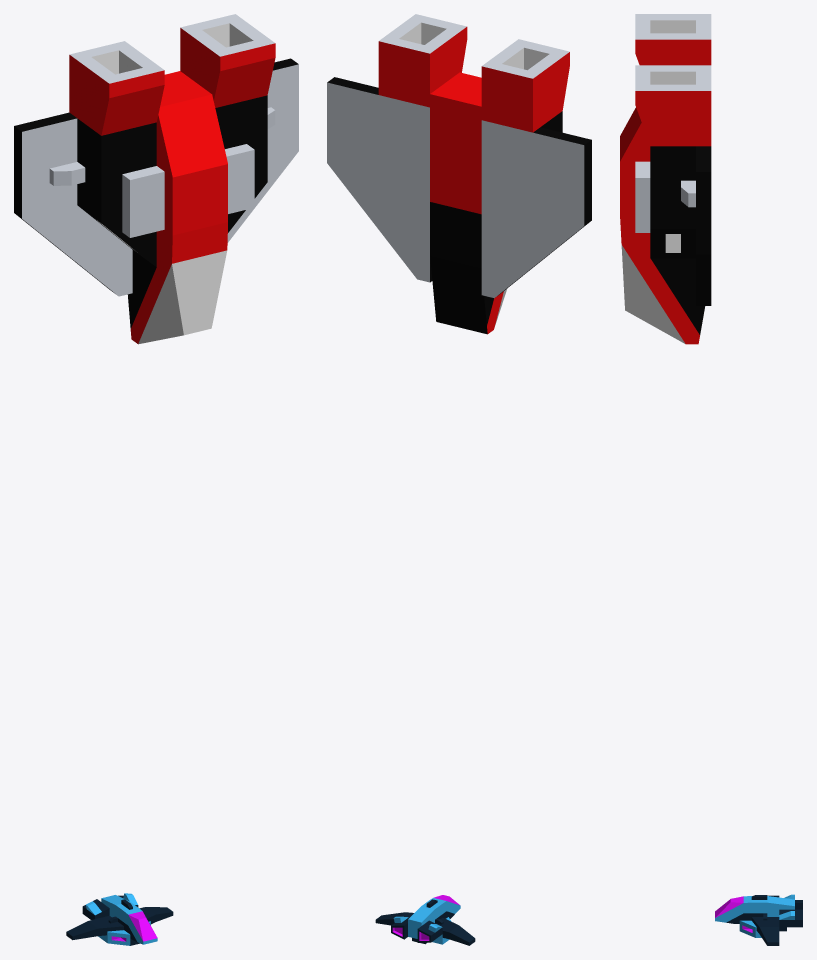
The model's file is craft_speederD.obj.
3 renders of one model, left to right at view 1: azimuth 30°, elevation 25°; view 2: azimuth 150°, elevation 25°; view 3: azimuth 270°, elevation 25°, orthographic. The views are drawn at different scales.
Parts seen in each view (by area): view 1: craft_speederB.003, craft_speederD; view 2: craft_speederB.003, craft_speederD; view 3: craft_speederB.003, craft_speederD.
Boxes of the visible parts, x1,y1,x2,y2 form: craft_speederB.003: (14,14,298,344); craft_speederD: (66,893,173,945); craft_speederB.003: (327,14,591,334); craft_speederD: (375,895,475,945); craft_speederB.003: (620,14,711,344); craft_speederD: (715,894,802,945).
Size of the model in its own units: 7.69 by 24.43 by 4.63.
